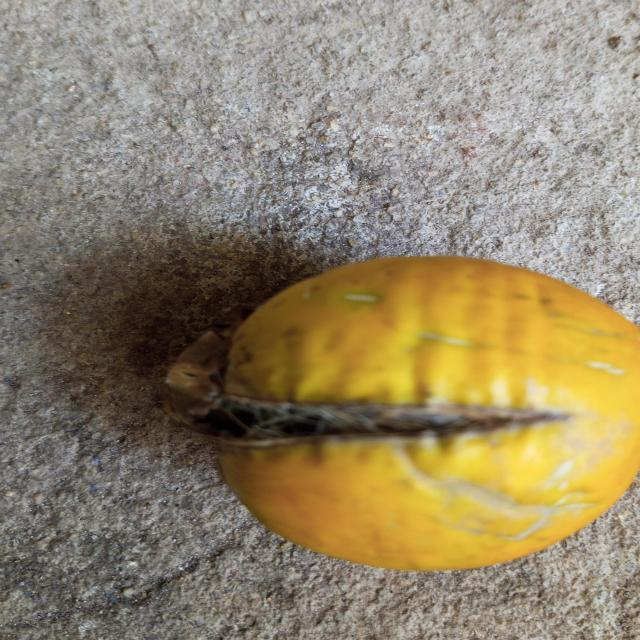damaged: (163, 257, 640, 570)
